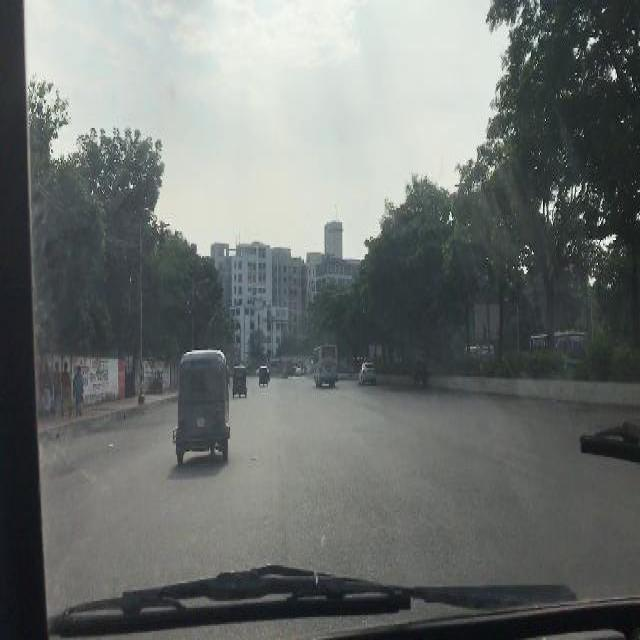vehicle: (176, 350, 231, 460), (531, 330, 590, 362), (314, 346, 338, 385), (465, 342, 496, 360), (359, 362, 378, 387), (233, 365, 248, 395), (259, 367, 269, 385)
